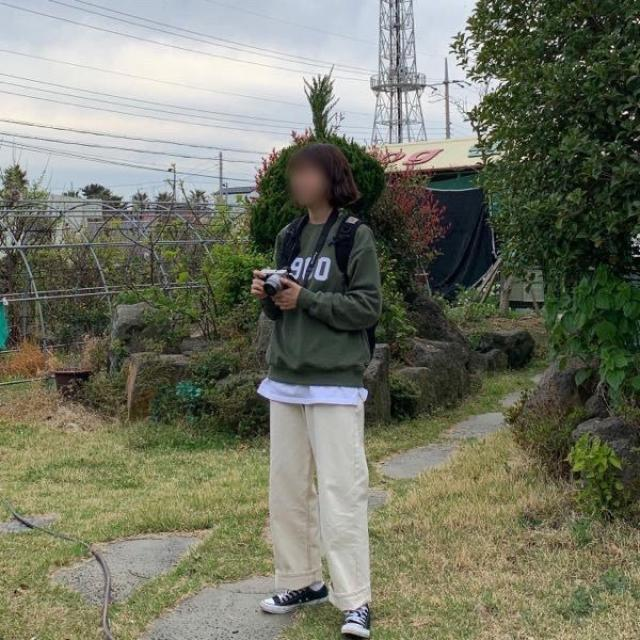cottonpants: (269, 392, 372, 610)
mtm: (262, 216, 381, 389)
